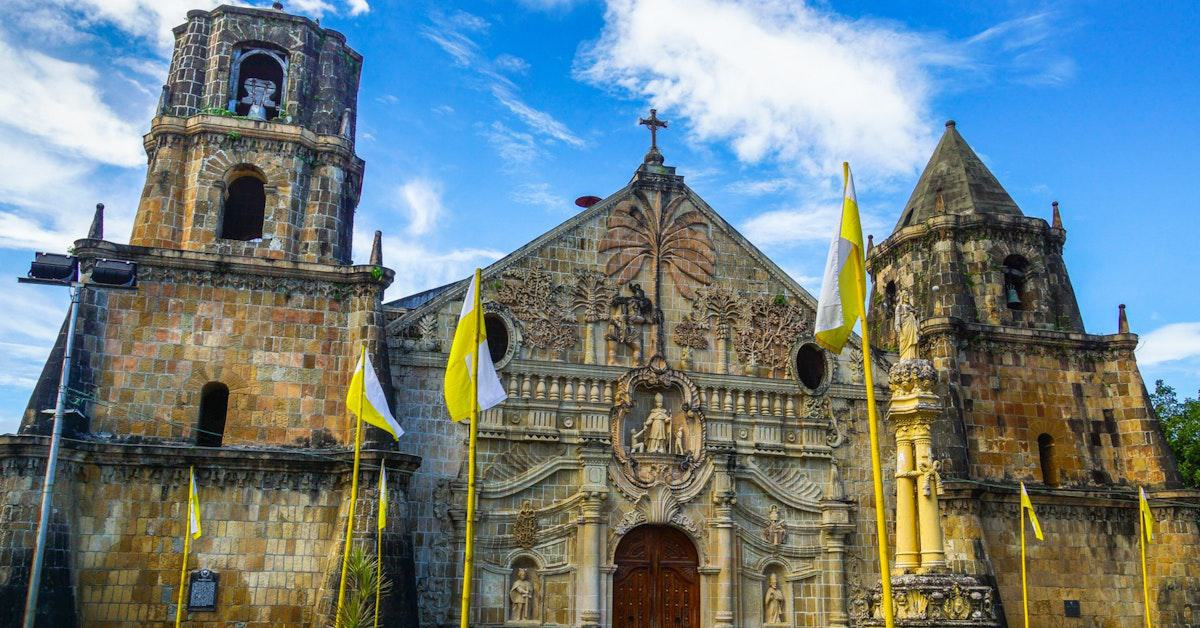miagao_church_miagao_iloilo: (35, 5, 1200, 626)
